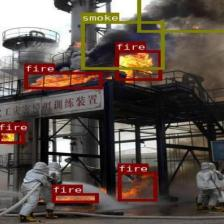fire: (115, 50, 161, 80), (24, 72, 101, 88), (117, 171, 156, 201), (52, 193, 97, 203), (0, 130, 24, 143)
smoke: (81, 21, 163, 69), (136, 0, 224, 31)
